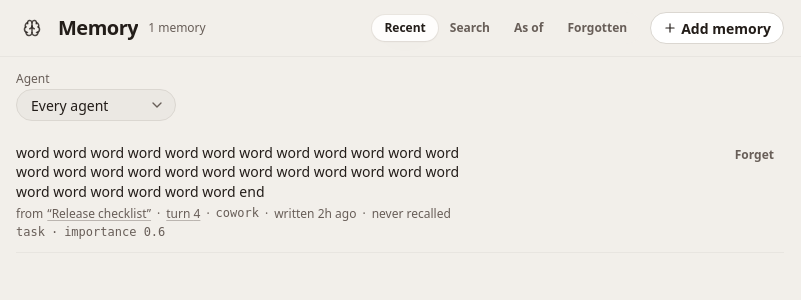
Test: forgetting › quotes the fact it is about to lose with an ellipsis, not a cut word
Click the button with aria-label "Forget “".
click(754, 155)  # box [725, 143, 784, 167]
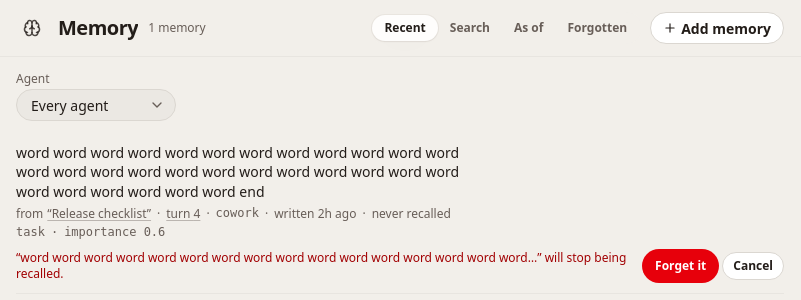
Expected: the text "…” will stop being recalled." is shown, [16, 248, 626, 282]
